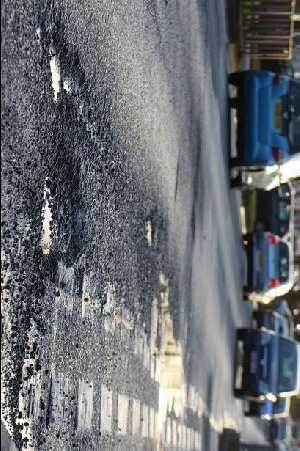pothole: (37, 161, 80, 267), (48, 28, 92, 114), (144, 217, 156, 247)
